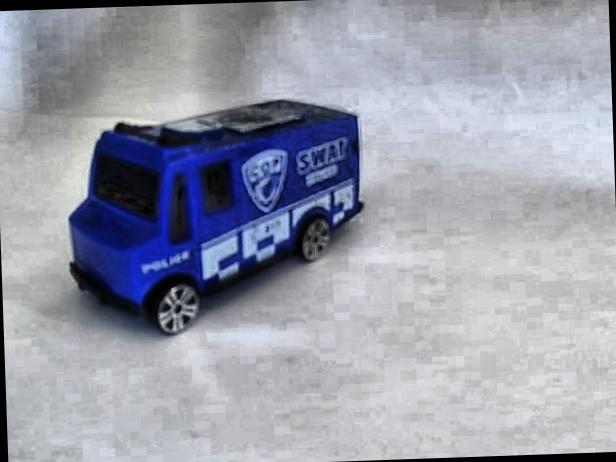police car: (44, 87, 370, 337)
